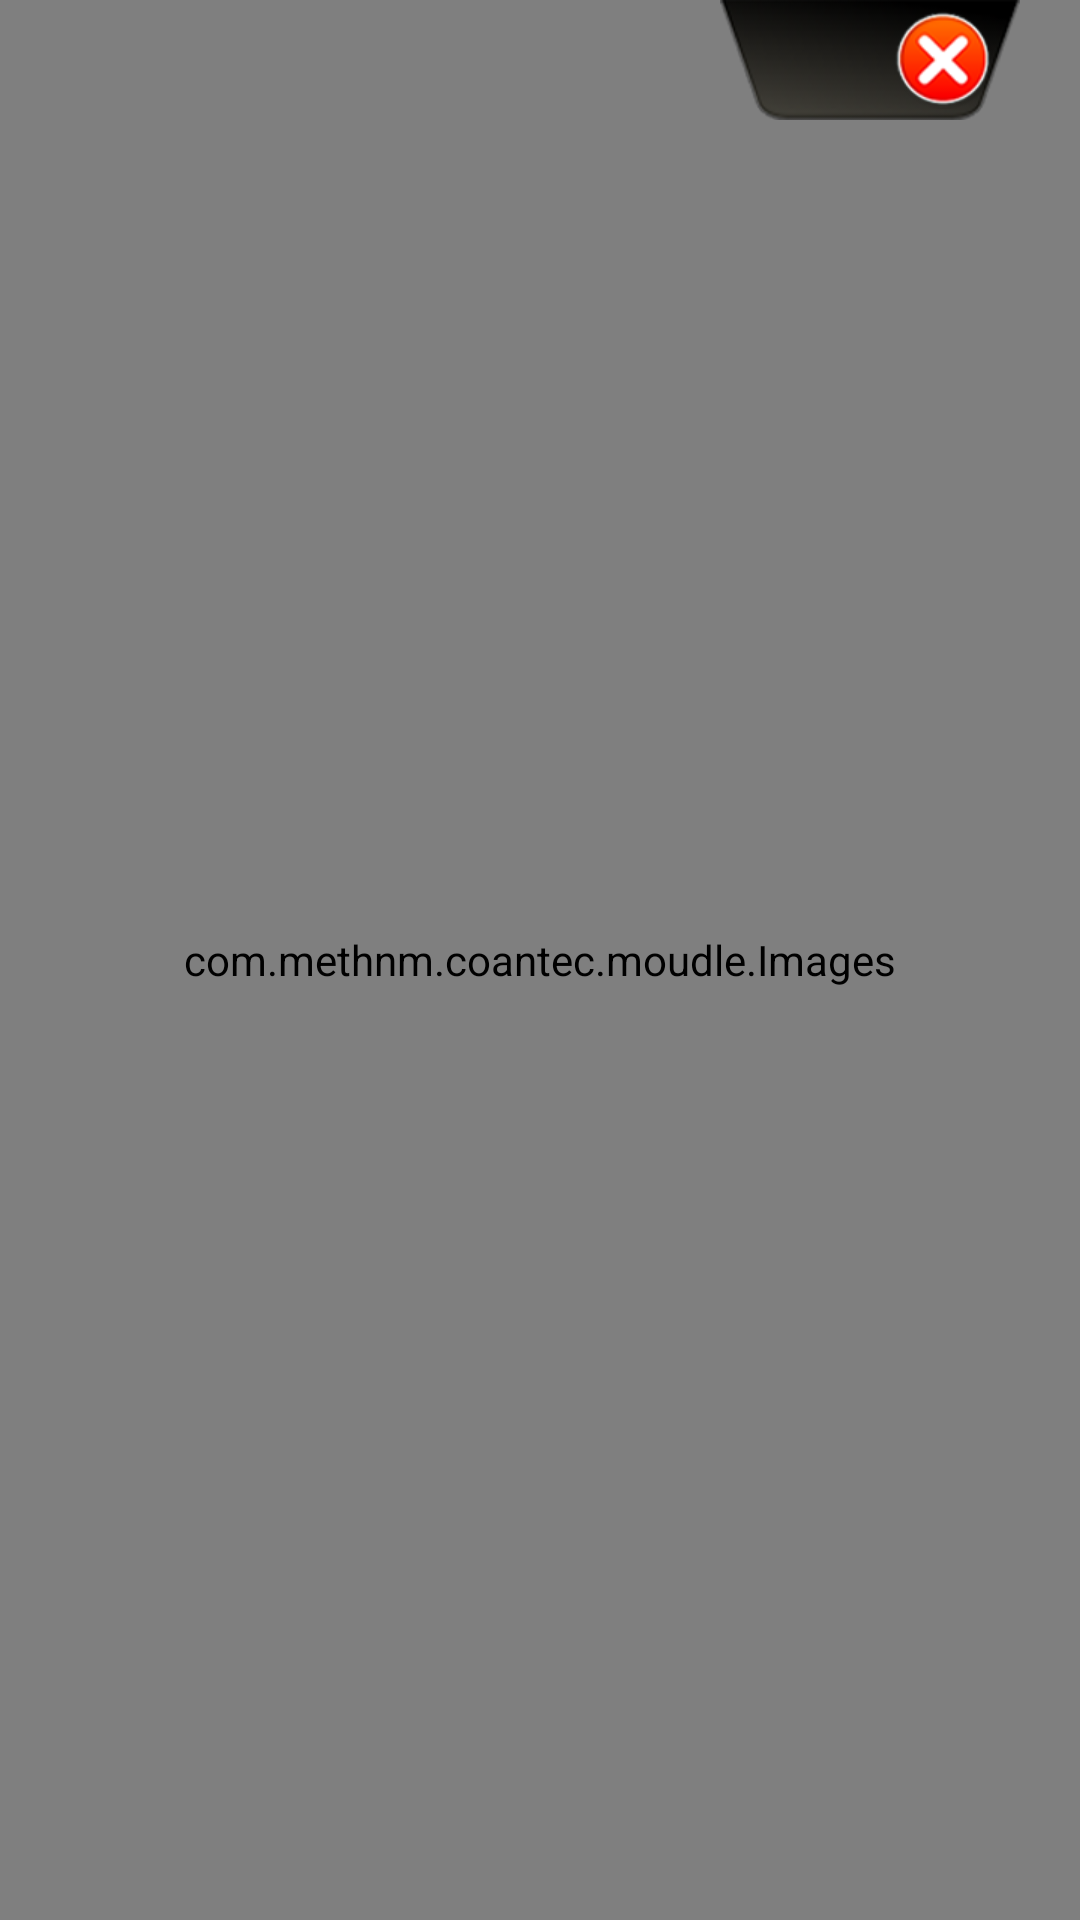

Icon click points for this 1080 × 1920 phone screenshot, format (x,y):
dialogclose: (944,59)
